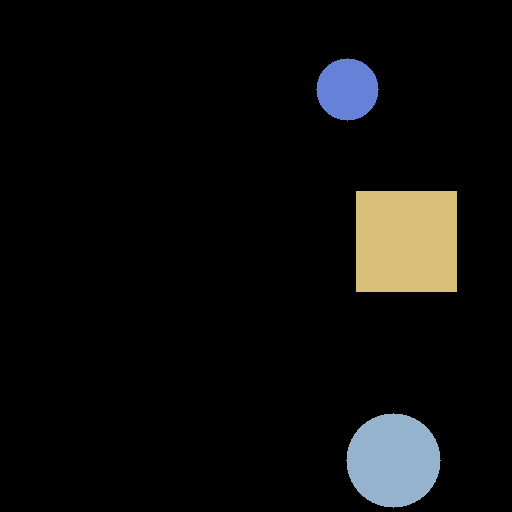circle: (346, 413, 440, 507), (316, 58, 378, 120)
square: (356, 191, 456, 291)
